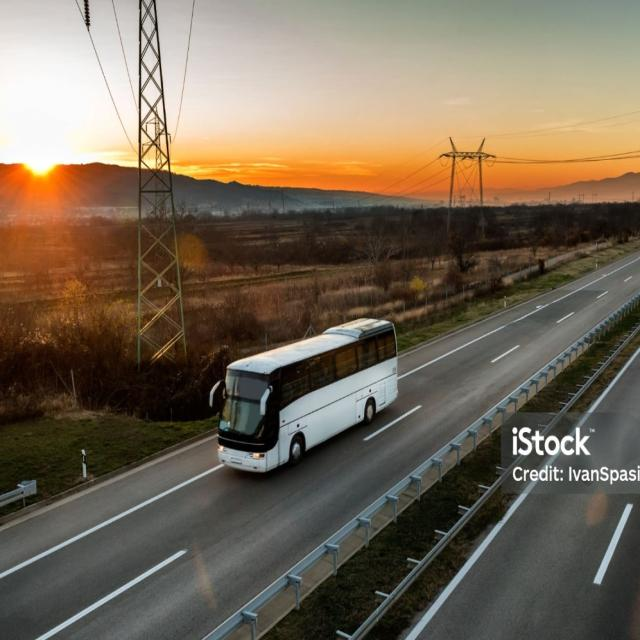bus: (210, 317, 398, 475)
